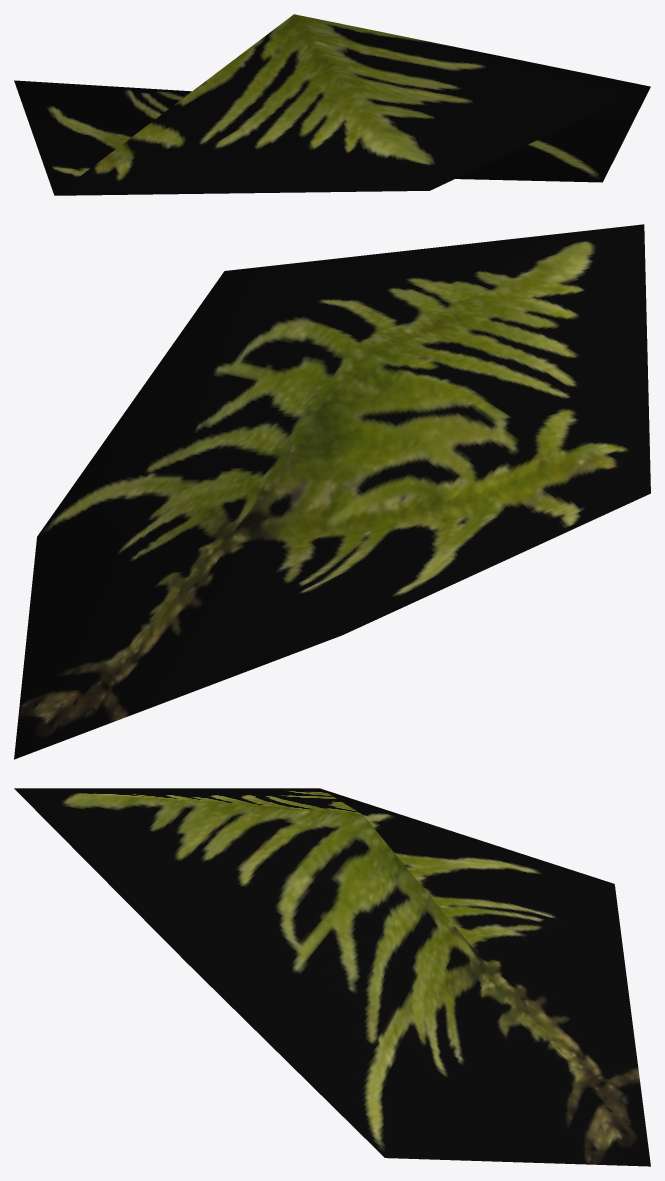
Rendered from Moss_10.fbx.
3 views of the same model, one above another, from view 1: azimuth 30°, elevation 25°; view 2: azimuth 150°, elevation 25°; view 3: azimuth 270°, elevation 25° (orthographic). The views are drawn at different scales.
Parts seen in each view (by area): view 1: Moss_10; view 2: Moss_10; view 3: Moss_10.
Part boxes in pixels (<box>): Moss_10: <box>14,14,650,195</box>; Moss_10: <box>14,224,650,759</box>; Moss_10: <box>14,788,650,1166</box>.
Size of the model in its own units: 0.0707 by 0.0383 by 0.08.
Materials: 1 (1 with a texture image).
